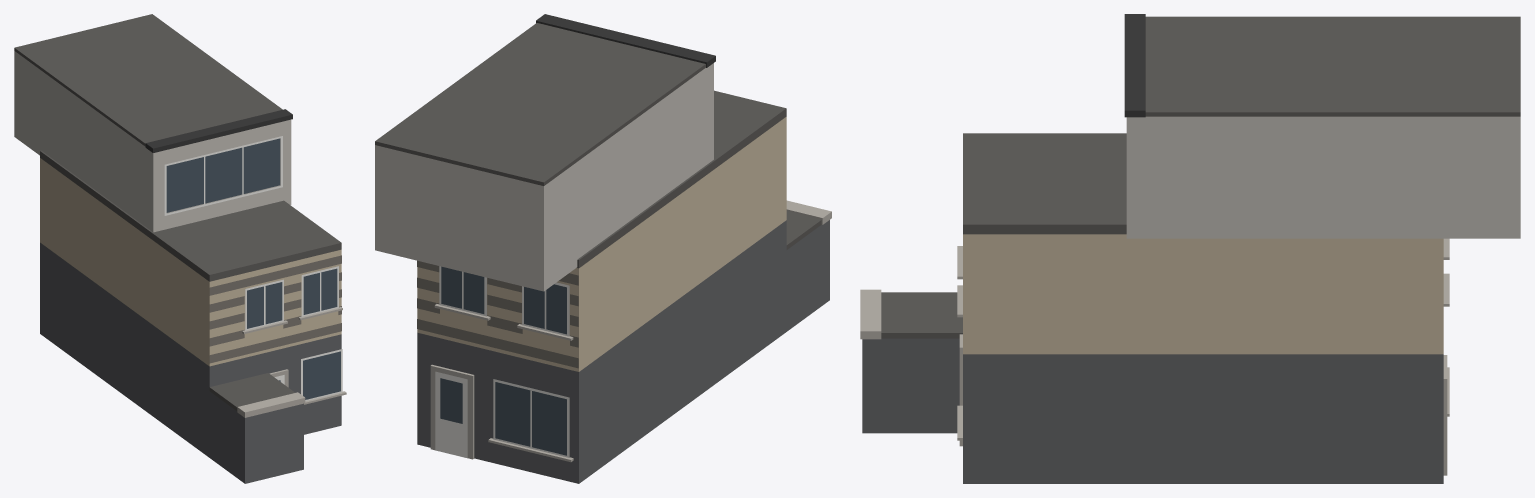
The model's file is nd-tw-flat-top__striped-box__2__flat__long__solid.glb.
3 views of the same model, side by side, from view 1: azimuth 30°, elevation 25°; view 2: azimuth 150°, elevation 25°; view 3: azimuth 270°, elevation 25° (orthographic). The views are drawn at different scales.
Visible parts, largest first — view 1: nd-tw-flat-top__striped-box__2__flat__long__solid; view 2: nd-tw-flat-top__striped-box__2__flat__long__solid; view 3: nd-tw-flat-top__striped-box__2__flat__long__solid.
Part boxes in pixels (x1,y1,x2,y2): nd-tw-flat-top__striped-box__2__flat__long__solid: (14,14,346,483); nd-tw-flat-top__striped-box__2__flat__long__solid: (375,14,831,483); nd-tw-flat-top__striped-box__2__flat__long__solid: (860,14,1520,483).
Size of the model in its own units: 4.81 by 8.7 by 13.74.
